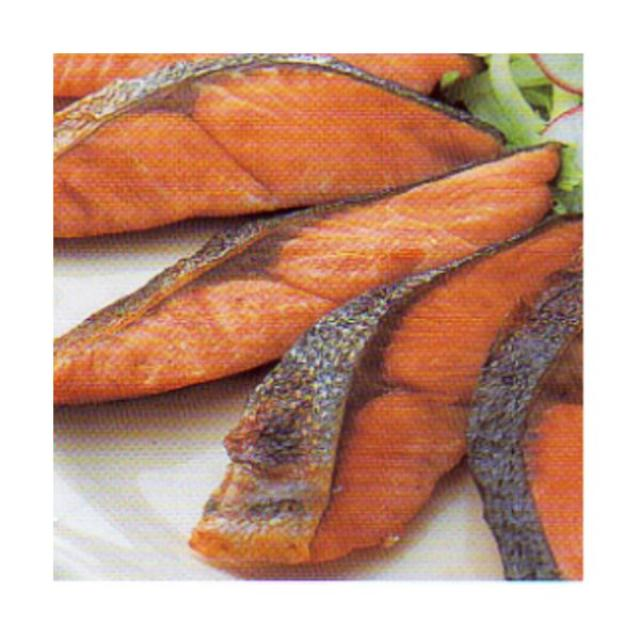熟制海鲜: (52, 46, 579, 582)
